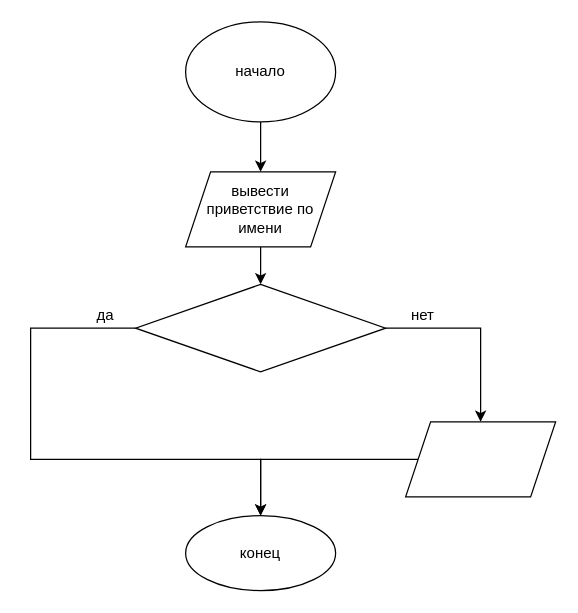
Some shapes in this 578 by 613 pixel diagram are drawn without their labels. The box of each missing label's shape, as (x1, y1, x2, y2) in pixels:
вывести рекламу: (404, 421, 556, 497)
есть премиум-подписка?: (134, 283, 386, 372)
